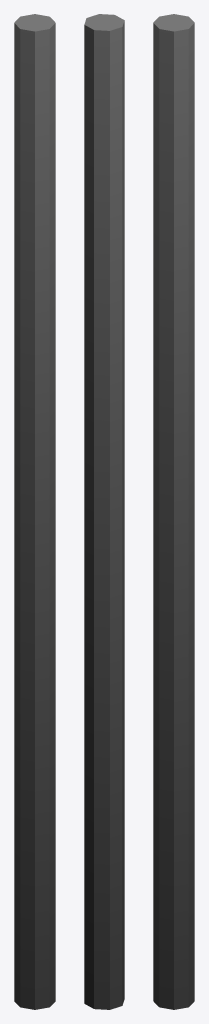
File: pillar.glb
The picture shows the model from 3 angles, left to right: view 1: azimuth 90°, elevation 25°; view 2: azimuth 150°, elevation 25°; view 3: azimuth 270°, elevation 25°; orthographic projection.
Visible parts, largest first — view 1: pillar; view 2: pillar; view 3: pillar.
Part boxes in pixels (x1=…): pillar: x1=14, y1=14, x2=55, y2=1009; pillar: x1=84, y1=14, x2=124, y2=1009; pillar: x1=153, y1=14, x2=194, y2=1009.
Size of the model in its own units: 0.0695 by 1.81 by 0.0695.
1 material, 1 textured.
